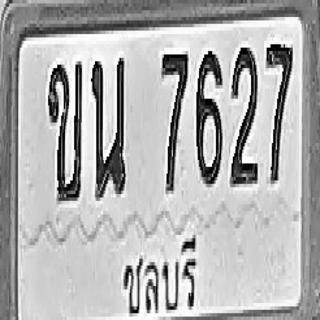A02: (47, 58, 82, 201)
A25: (90, 54, 126, 198)
N02: (230, 44, 258, 184)
N06: (196, 48, 222, 184)
N07: (265, 39, 293, 182), (161, 51, 188, 190)
P13: (116, 225, 200, 320)
